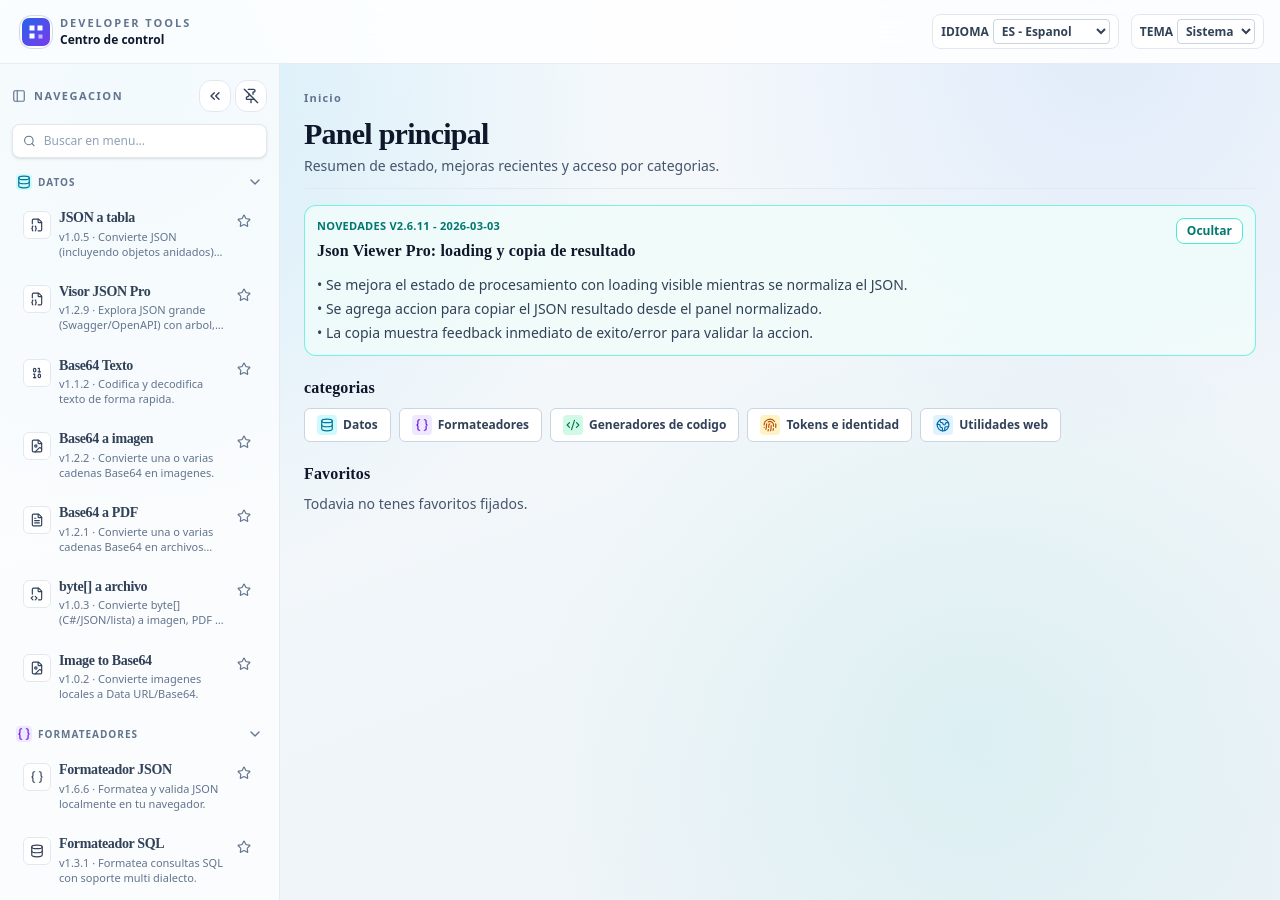
Test case: ToolList › permite navegar a una categoria desde el menu
The image size is (1280, 900).
Click the button "Datos" below "Navegacion": (126, 182) top-left (12, 170), bottom-right (239, 194)
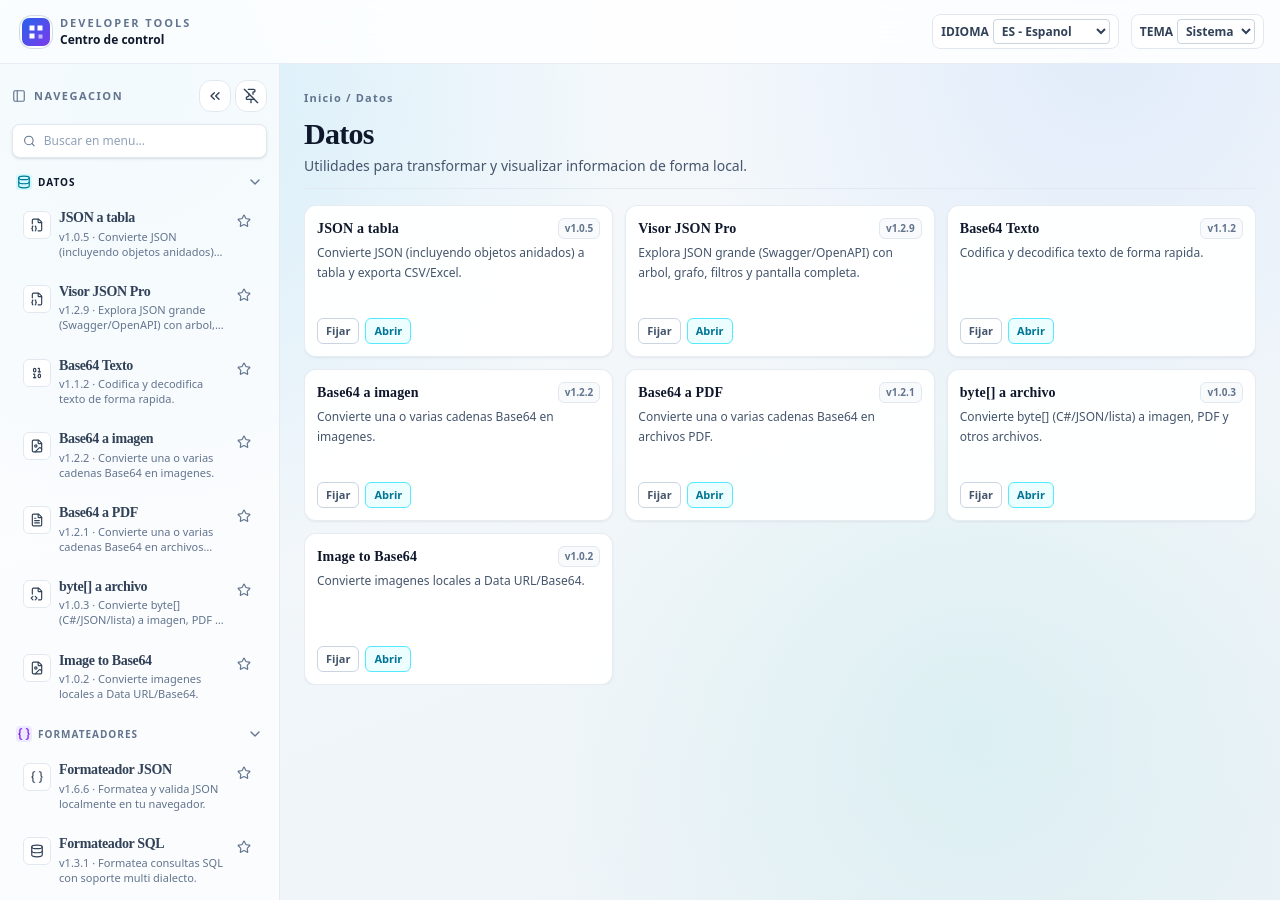
Check: the heading "Datos" is shown, box top-left (304, 116), bottom-right (374, 152)
